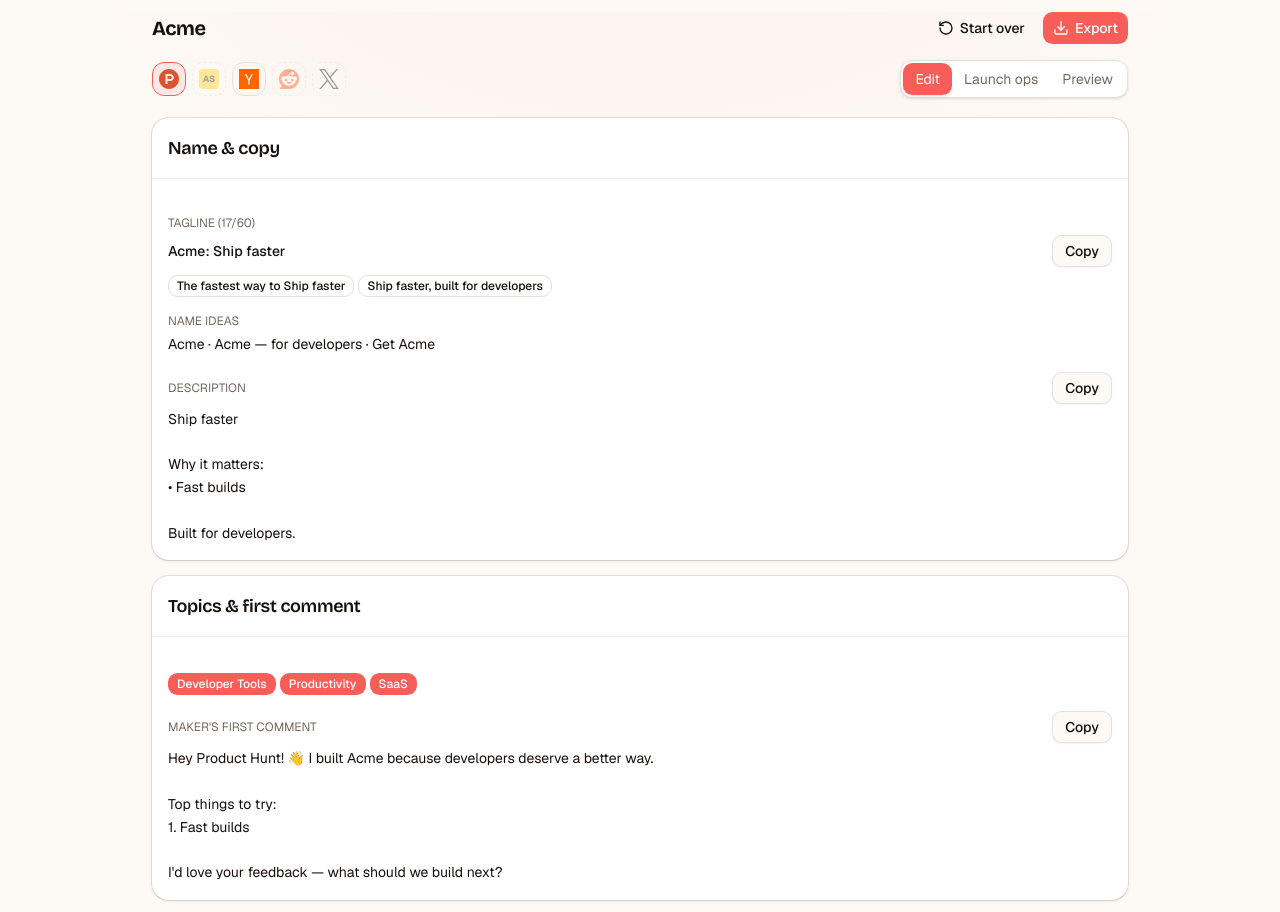
Test: PostKit launch-ops tab › hides the Launch ops tab for platforms without launch-day ops
The width and height of the screenshot is (1280, 912).
Click the button named "Hacker News".
click(249, 79)  # box [232,62,266,96]
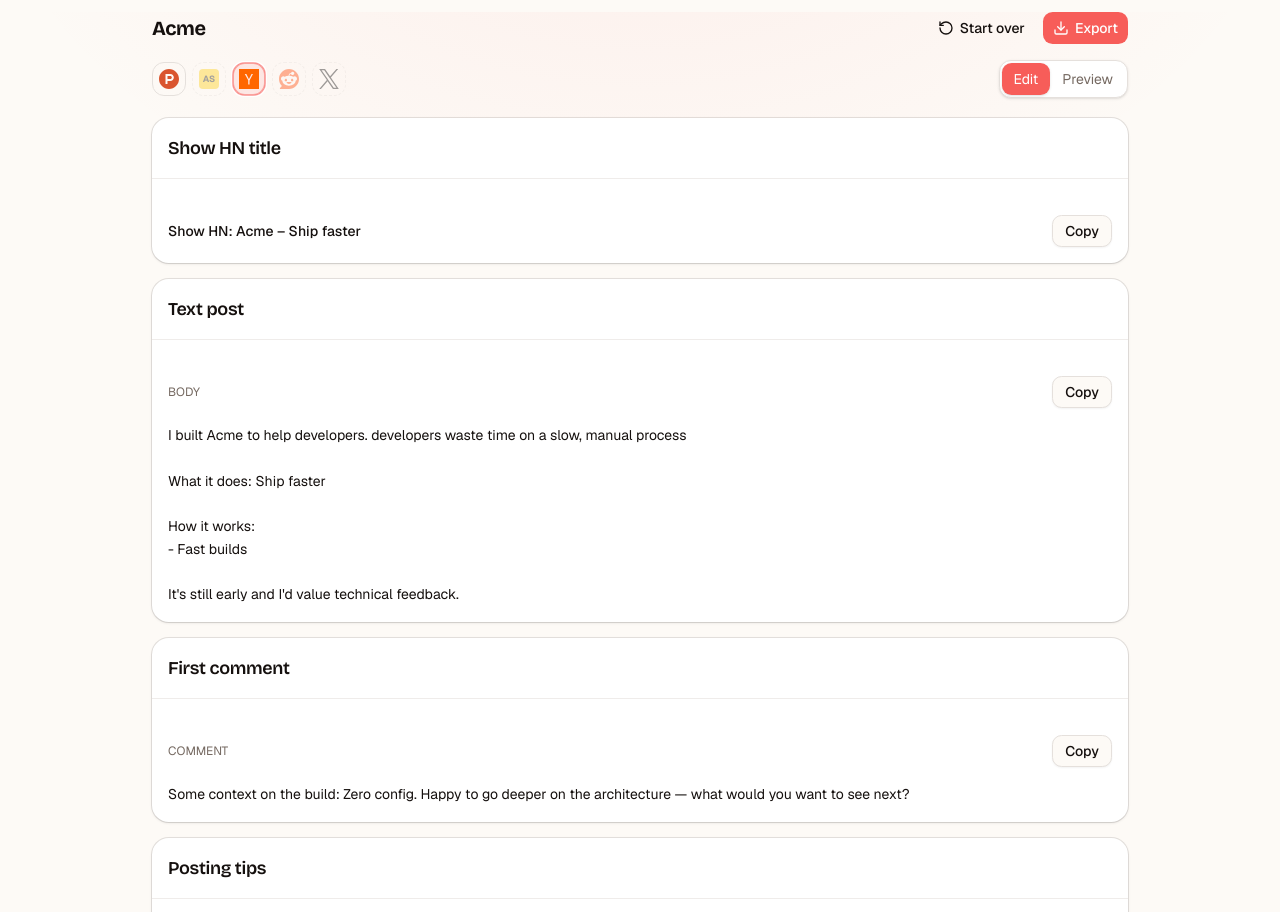
Expected: the button "Launch ops" is gone
